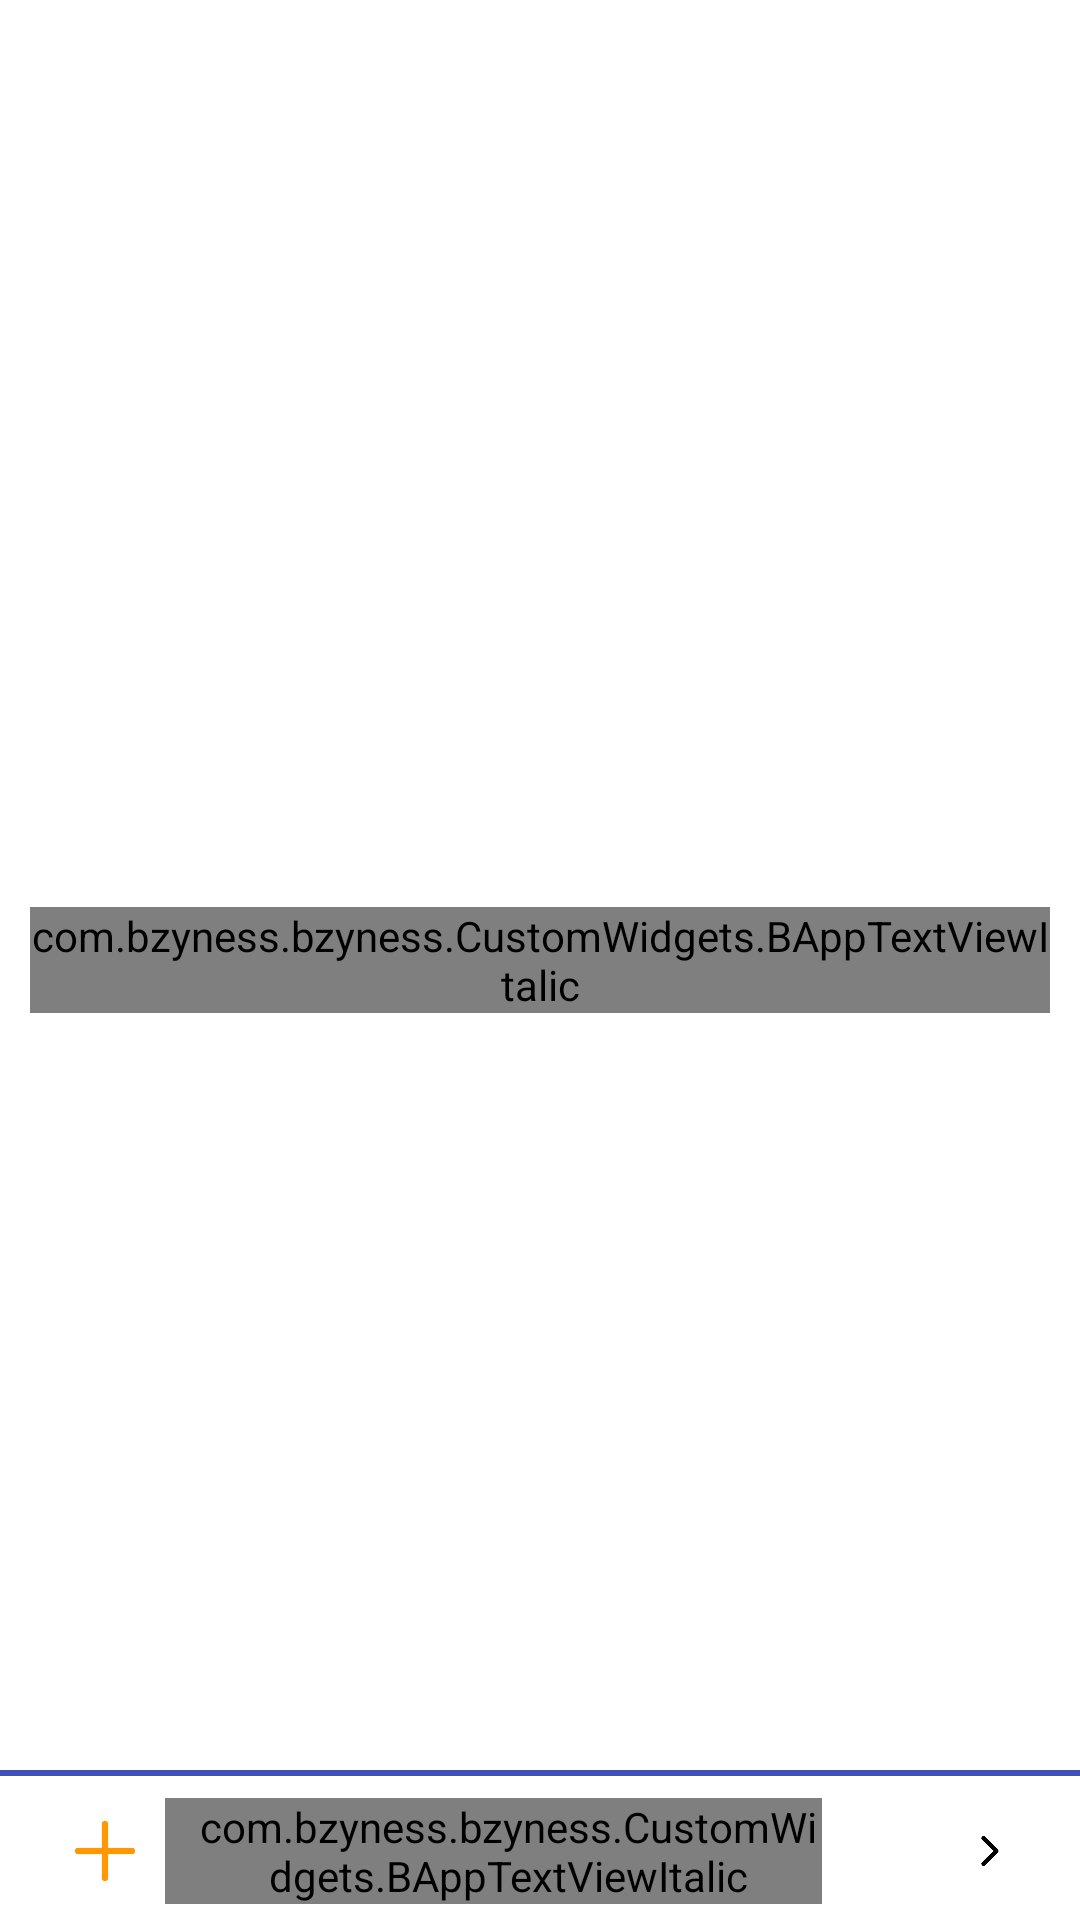

Point at icon controls on the screen. Image size 1080 × 1920, points as (x=x, y=y).
forward arrow: (x=990, y=1851)
plus: (x=105, y=1851)
